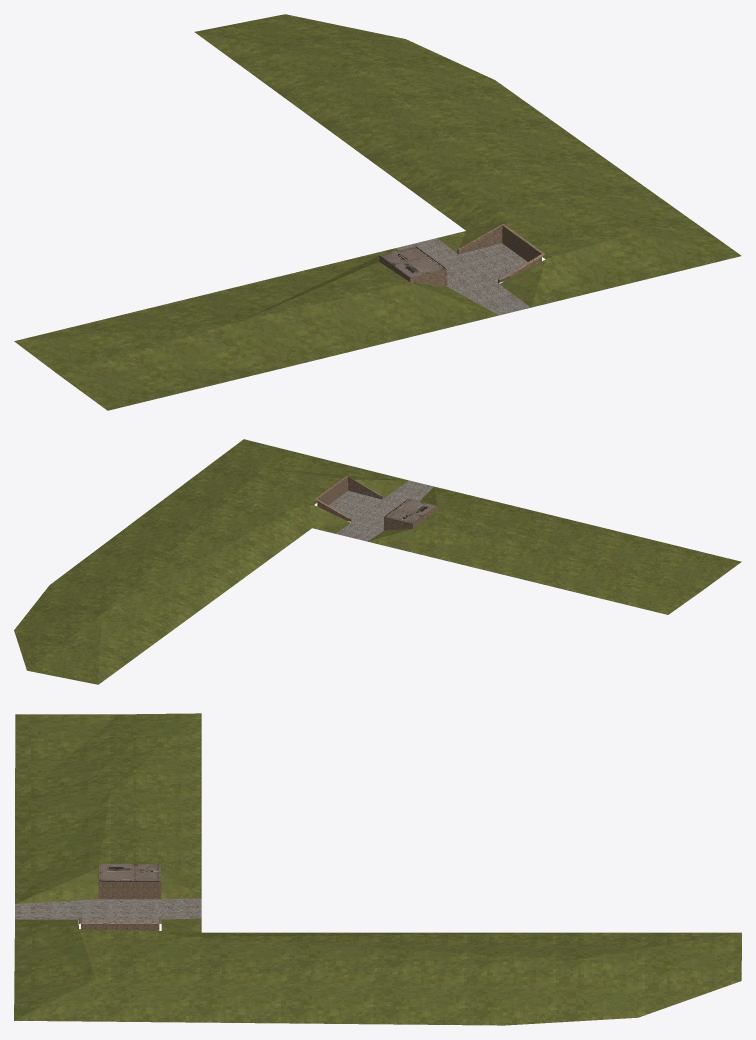
File: lodballparkland.obj
3 renders of one model, top to bottom at view 1: azimuth 30°, elevation 25°; view 2: azimuth 150°, elevation 25°; view 3: azimuth 270°, elevation 25°, orthographic. The views are drawn at different scales.
Visible parts, largest first — view 1: lodballparkland; view 2: lodballparkland; view 3: lodballparkland.
Part boxes in pixels (<box>): lodballparkland: <box>14,14,741,410</box>; lodballparkland: <box>14,439,741,684</box>; lodballparkland: <box>14,713,741,1025</box>.
Size of the model in its own units: 140 by 5.39 by 140.
Materials: 4 (4 with a texture image).
